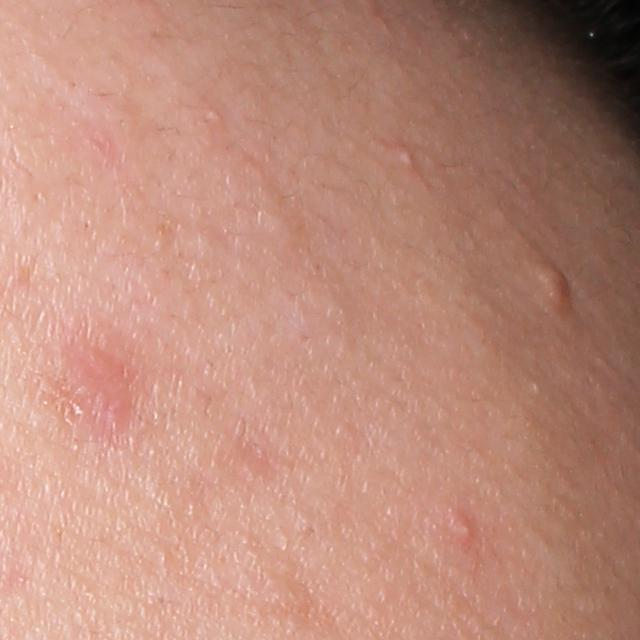papule: (58, 338, 137, 434), (530, 258, 574, 310), (452, 514, 479, 550)
